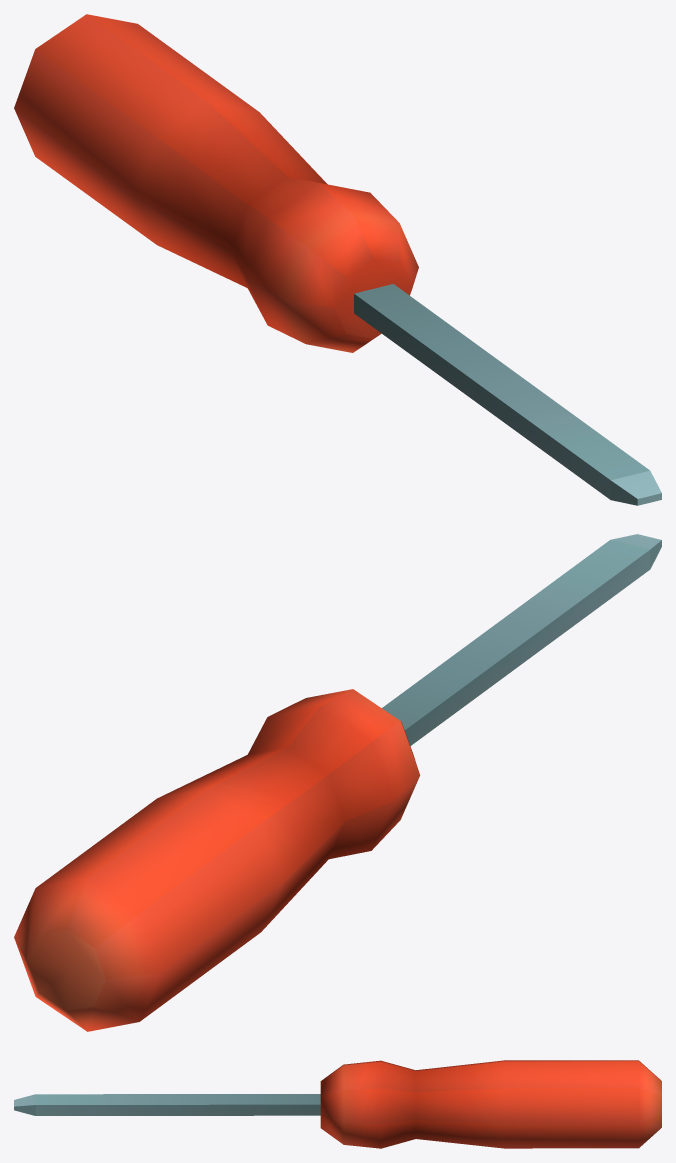
File: screwdriver.fbx
3 renders of one model, top to bottom at view 1: azimuth 30°, elevation 25°; view 2: azimuth 150°, elevation 25°; view 3: azimuth 270°, elevation 25°, orthographic. The views are drawn at different scales.
Parts seen in each view (by area): view 1: screwdriver; view 2: screwdriver; view 3: screwdriver.
Boxes of the visible parts, x1,y1,x2,y2 form: screwdriver: (14, 14, 661, 505); screwdriver: (14, 534, 661, 1031); screwdriver: (14, 1060, 661, 1148).
Size of the model in its own units: 3.27 by 3.24 by 22.38.
